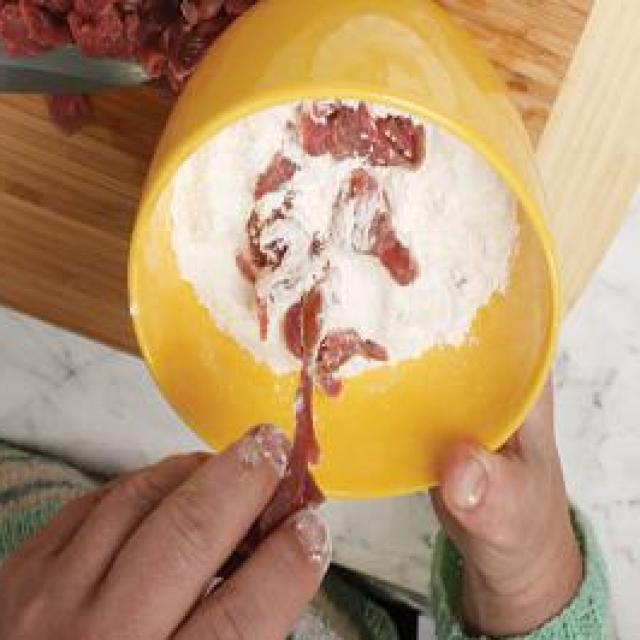knife: (0, 24, 152, 89)
